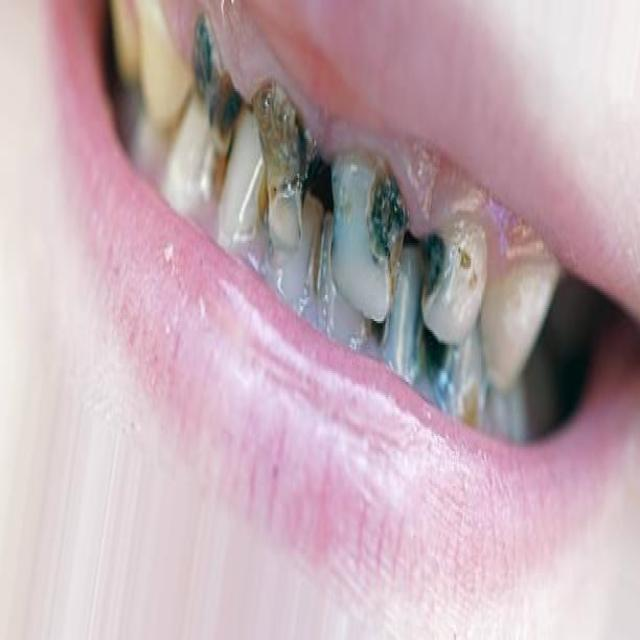caries: (325, 140, 406, 324), (250, 71, 312, 246), (187, 0, 244, 167), (417, 210, 481, 350)
